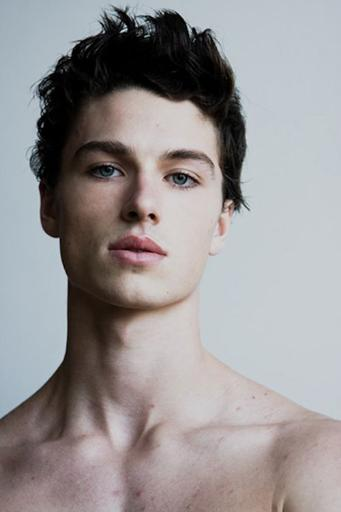left_eye: (163, 170, 204, 194)
left_lip_corner: (159, 248, 173, 266)
right_eye: (85, 161, 128, 185)
right_lip_corner: (104, 240, 120, 260)
